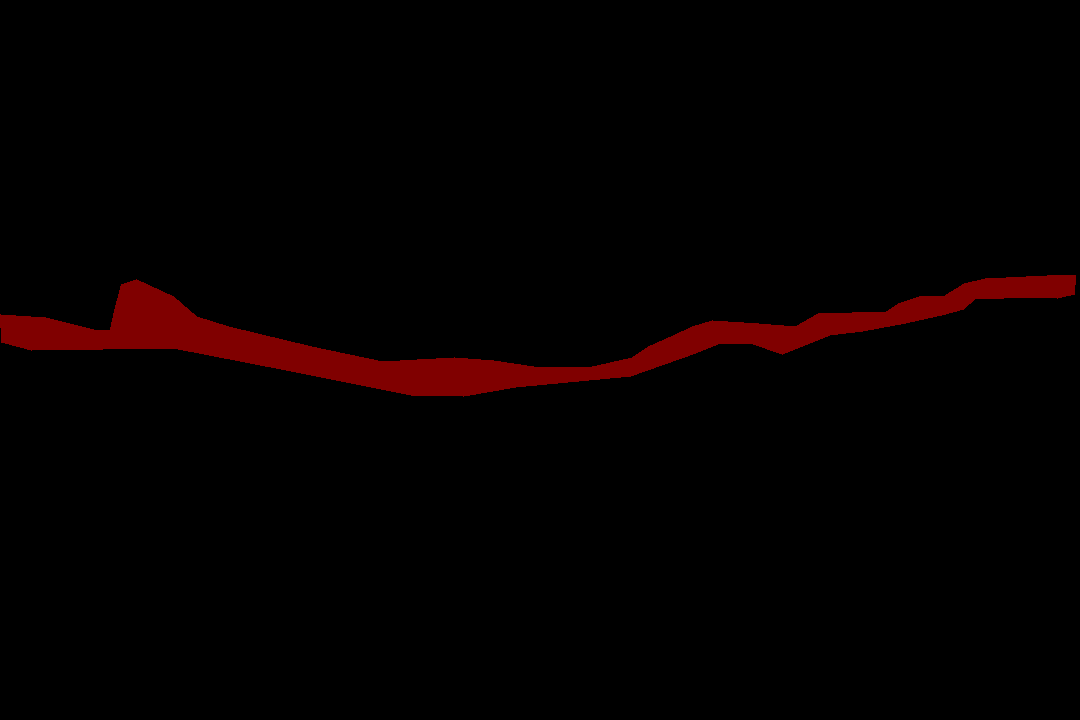fire: (0, 275, 1075, 396)
